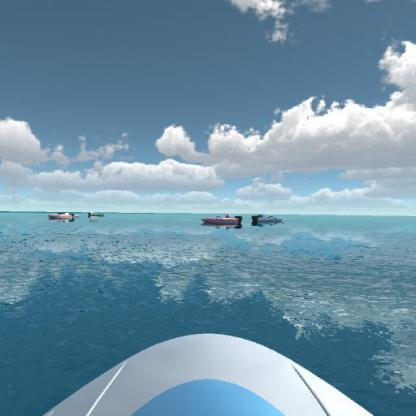usv0: (86, 209, 108, 219)
usv1: (251, 211, 287, 228)
usv3: (200, 211, 243, 229), (46, 210, 79, 222)
